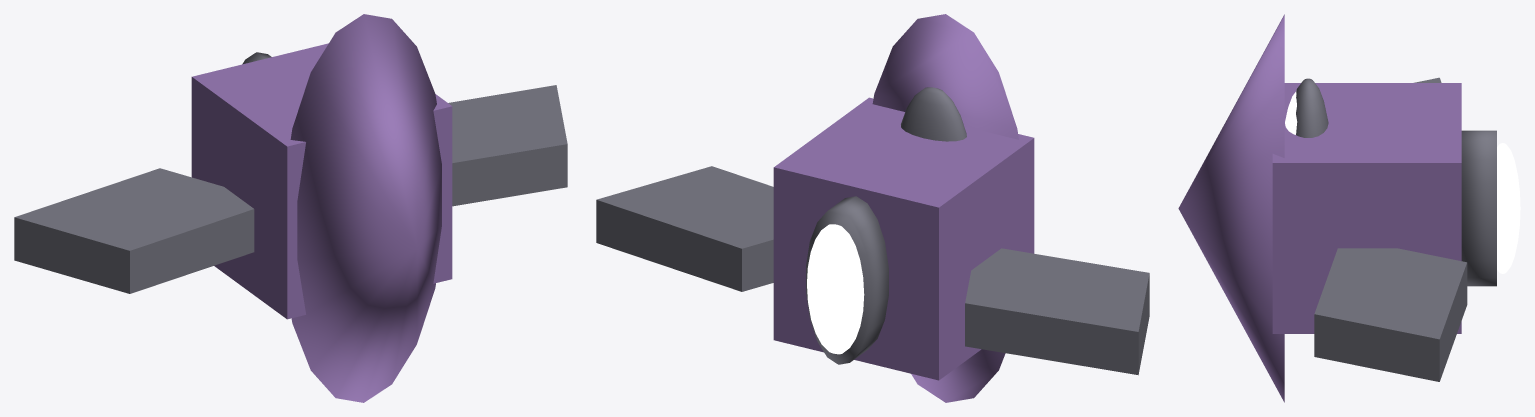
File: enemy_fighter.glb
3 views of the same model, side by side, from view 1: azimuth 30°, elevation 25°; view 2: azimuth 150°, elevation 25°; view 3: azimuth 270°, elevation 25° (orthographic).
Visible parts, largest first — view 1: EnemyFighter_joined; view 2: EnemyFighter_joined; view 3: EnemyFighter_joined.
Boxes of the visible parts, x1,y1,x2,y2 form: EnemyFighter_joined: [14, 14, 567, 402]; EnemyFighter_joined: [596, 14, 1149, 402]; EnemyFighter_joined: [1178, 14, 1520, 402].
Bounding box in the file's own units: 3.28 × 2.25 × 1.81.
